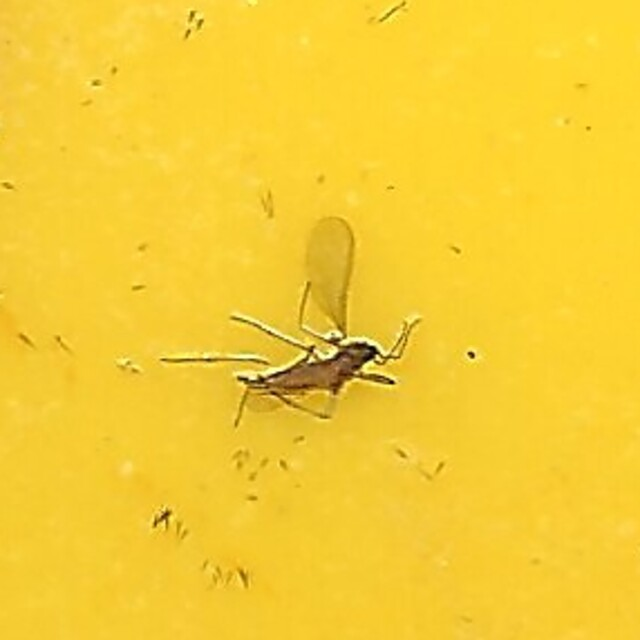Nematocera: (224, 215, 416, 425)
